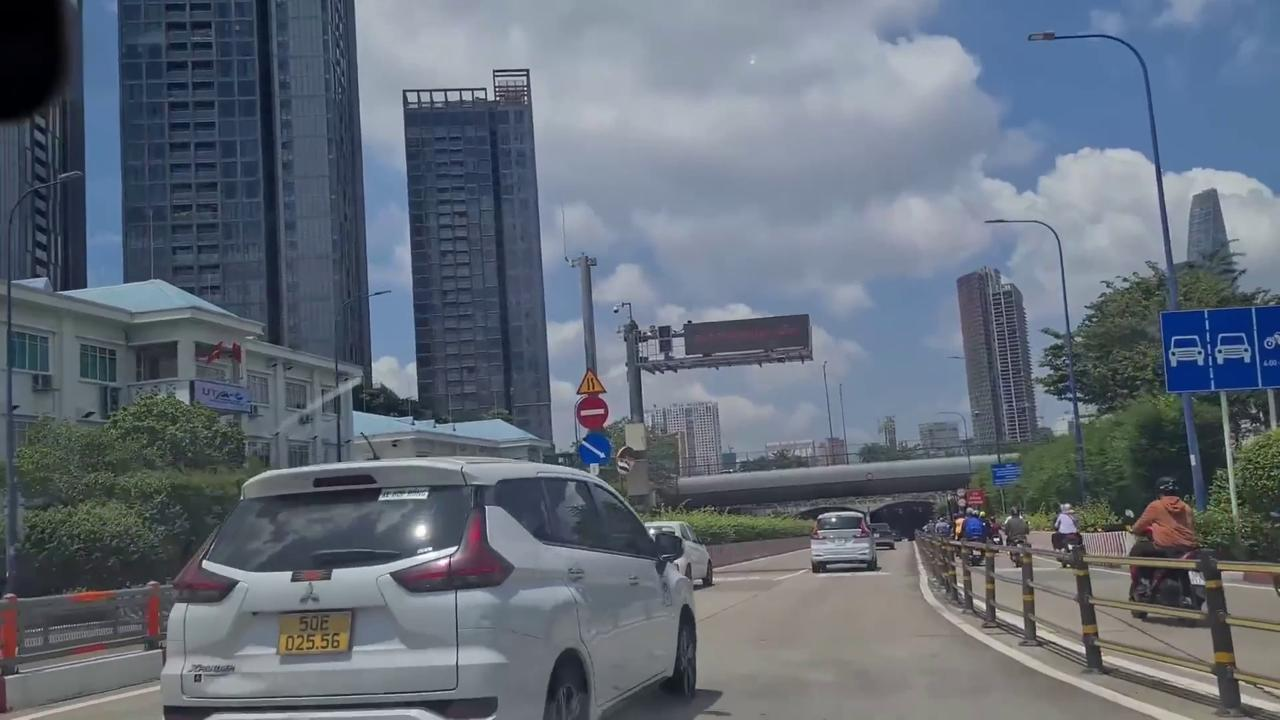Cấm đi ngược chiều: (575, 396, 610, 431)
Hướng phải đi vòng sang phải: (576, 432, 614, 466)
Làn đường cho từng xe: (1153, 304, 1280, 394)
Đuờng hẹp: (575, 365, 609, 394)
